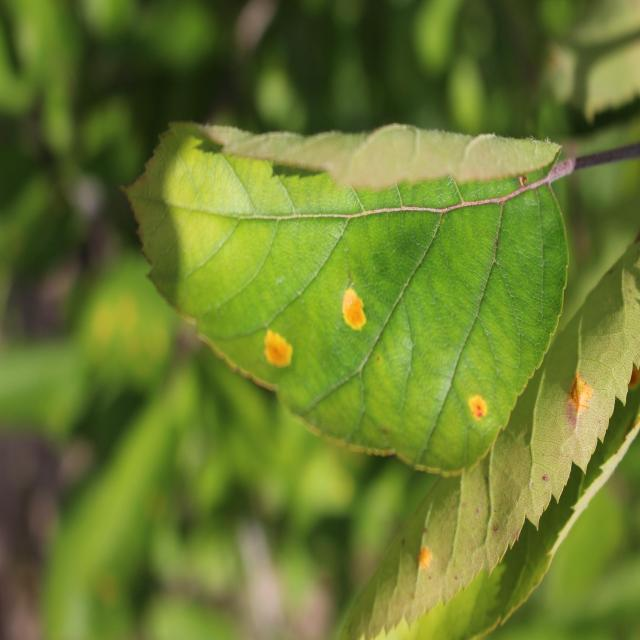Rust: (258, 300, 301, 398), (332, 272, 377, 344), (566, 371, 606, 424), (451, 386, 502, 424), (404, 532, 439, 582)
